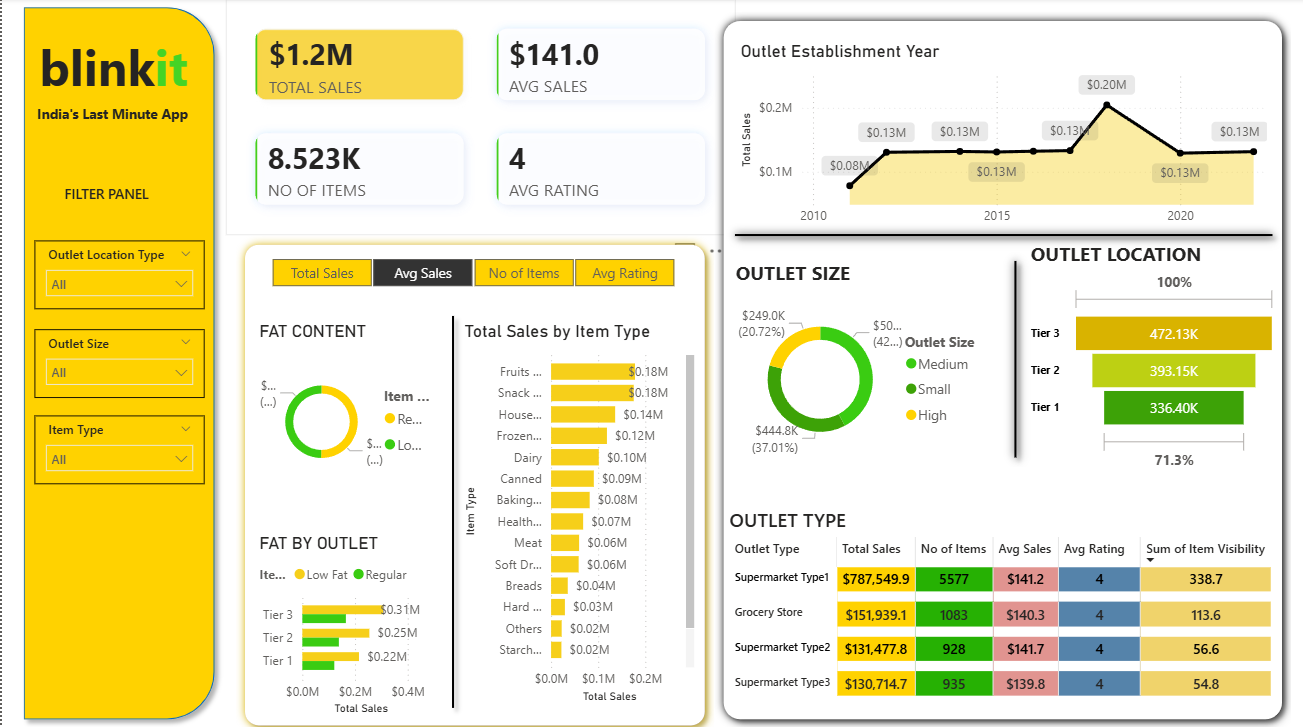

This screenshot's page, from the dashboard's own definition file:
{"tool":"powerbi","page":{"name":"Page 1","canvas":[1280,720],"ordinal":0},"visuals":[{"type":"shape","box":[12.2,0,204.8,714.7],"z":0},{"type":"textbox","box":[12.2,29.8,193.9,115.3],"z":1000},{"type":"textbox","box":[29.8,99,199.4,33.9],"z":2000},{"type":"cardVisual","fields":{"Data":["BlinkIT Grocery Data.Total Sales","BlinkIT Grocery Data.Avg Sales","BlinkIT Grocery Data.No of Items","BlinkIT Grocery Data.Avg Rating"]},"box":[218.4,1.4,499.1,230.6],"z":3000},{"type":"shape","box":[229.2,231.9,467.9,488.2],"z":4000},{"type":"slicer","fields":{"Values":["Metrics.Metrics"]},"box":[238.7,248.2,443.5,39.3],"z":5000},{"type":"donutChart","title":"FAT CONTENT","fields":{"Y":["BlinkIT Grocery Data.Avg Sales"],"Category":["BlinkIT Grocery Data.Item Fat Content"]},"box":[246.8,316,184.4,177.7],"z":6000},{"type":"clusteredBarChart","title":"FAT BY OUTLET","fields":{"Y":["BlinkIT Grocery Data.Total Sales"],"Category":["BlinkIT Grocery Data.Outlet Location Type"],"Series":["BlinkIT Grocery Data.Item Fat Content"]},"box":[246.8,523.5,184.4,183.1],"z":7000},{"type":"shape","box":[400.1,302.4,82.7,401.4],"z":8000},{"type":"barChart","fields":{"Category":["BlinkIT Grocery Data.Item Type"],"Y":["BlinkIT Grocery Data.Total Sales"]},"box":[447.6,316,234.6,378.4],"z":9000},{"type":"shape","box":[697.1,13.6,564.2,701.2],"z":10000},{"type":"lineChart","title":" Outlet Establishment Year","fields":{"Y":["BlinkIT Grocery Data.Total Sales"],"Category":["BlinkIT Grocery Data.Outlet Establishment Year"]},"box":[717.4,42,524.9,189.9],"z":11000},{"type":"shape","box":[707.9,211.6,543.8,40.7],"z":12000},{"type":"donutChart","title":"OUTLET SIZE","fields":{"Y":["BlinkIT Grocery Data.Total Sales"],"Category":["BlinkIT Grocery Data.Outlet Size"]},"box":[717.4,248.2,252.3,225.1],"z":13000},{"type":"shape","box":[969.7,248.2,43.4,210.2],"z":14000},{"type":"funnel","title":" OUTLET LOCATION","fields":{"Y":["Sum(BlinkIT Grocery Data.Sales)"],"Category":["BlinkIT Grocery Data.Outlet Location Type"]},"box":[1000.9,237.3,250.9,230],"z":15000},{"type":"pivotTable","title":"OUTLET TYPE","fields":{"Rows":["BlinkIT Grocery Data.Outlet Type"],"Values":["BlinkIT Grocery Data.Total Sales","BlinkIT Grocery Data.No of Items","BlinkIT Grocery Data.Avg Sales","BlinkIT Grocery Data.Avg Rating","Sum(BlinkIT Grocery Data.Item Visibility)"]},"box":[707.4,497.6,544.7,221.9],"z":16000},{"type":"slicer","fields":{"Values":["BlinkIT Grocery Data.Outlet Location Type"]},"box":[31.8,237.2,166.3,67.3],"z":17000},{"type":"slicer","fields":{"Values":["BlinkIT Grocery Data.Outlet Size"]},"box":[31.8,324.1,166.3,67.3],"z":18000},{"type":"slicer","fields":{"Values":["BlinkIT Grocery Data.Item Type"]},"box":[31.8,408.4,166.3,67.3],"z":19000},{"type":"textbox","box":[56.3,177.3,116.2,34.2],"z":20000}]}

Visuals, with their boxes in screenshot pixels (x1, y1, x2, y2), scaled from the page's 1280x720 canvas onto the 1303x727 screenshot:
shape: x1=12 y1=0 x2=221 y2=722
textbox: x1=12 y1=30 x2=210 y2=147
textbox: x1=30 y1=100 x2=233 y2=134
cardVisual - BlinkIT Grocery Data.Total Sales x BlinkIT Grocery Data.Avg Sales: x1=222 y1=1 x2=730 y2=234
shape: x1=233 y1=234 x2=710 y2=726
slicer - Metrics.Metrics: x1=243 y1=251 x2=694 y2=290
"FAT CONTENT" donutChart: x1=251 y1=319 x2=439 y2=498
"FAT BY OUTLET" clusteredBarChart: x1=251 y1=529 x2=439 y2=713
shape: x1=407 y1=305 x2=491 y2=711
barChart - BlinkIT Grocery Data.Item Type x BlinkIT Grocery Data.Total Sales: x1=456 y1=319 x2=694 y2=701
shape: x1=710 y1=14 x2=1284 y2=722
" Outlet Establishment Year" lineChart: x1=730 y1=42 x2=1265 y2=234
shape: x1=721 y1=214 x2=1274 y2=255
"OUTLET SIZE" donutChart: x1=730 y1=251 x2=987 y2=478
shape: x1=987 y1=251 x2=1031 y2=463
" OUTLET LOCATION" funnel: x1=1019 y1=240 x2=1274 y2=472
"OUTLET TYPE" pivotTable: x1=720 y1=502 x2=1275 y2=726
slicer - BlinkIT Grocery Data.Outlet Location Type: x1=32 y1=240 x2=202 y2=307
slicer - BlinkIT Grocery Data.Outlet Size: x1=32 y1=327 x2=202 y2=395
slicer - BlinkIT Grocery Data.Item Type: x1=32 y1=412 x2=202 y2=480
textbox: x1=57 y1=179 x2=176 y2=214
